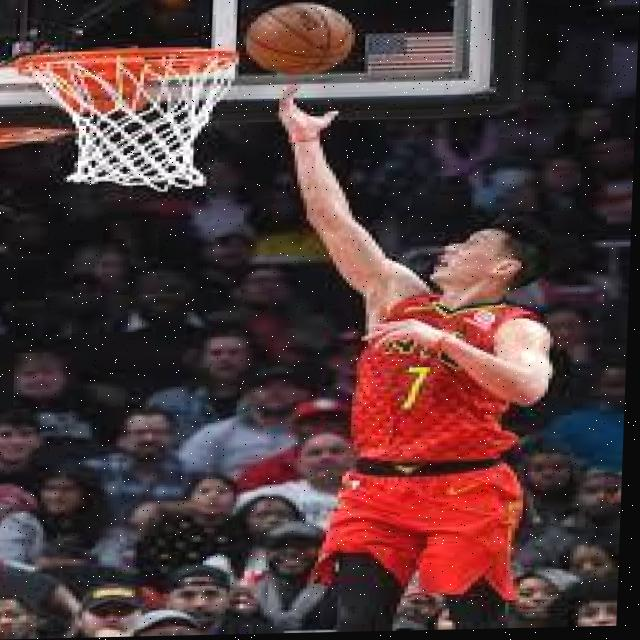basketball: (245, 4, 353, 76)
hoop: (17, 46, 240, 192)
